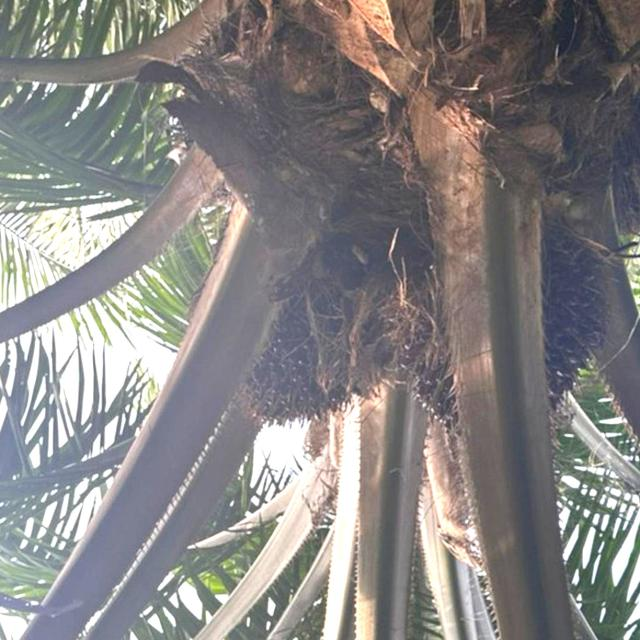unripe: (399, 210, 622, 448), (227, 244, 405, 442)
